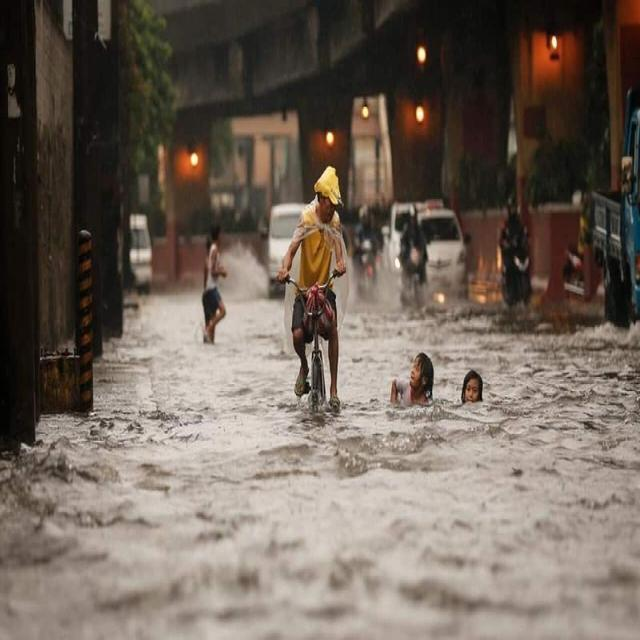Person-RiskLevel2: (278, 165, 348, 415), (194, 219, 242, 352)
Person-RiskLevel3: (383, 352, 438, 416), (448, 356, 506, 410)
